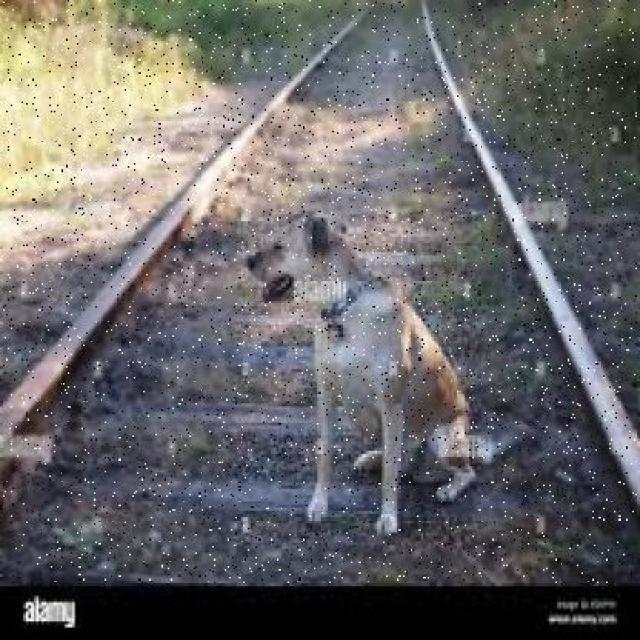rail: (5, 1, 638, 584)
